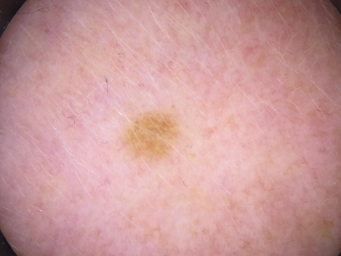nevus: (124, 114, 180, 155)
